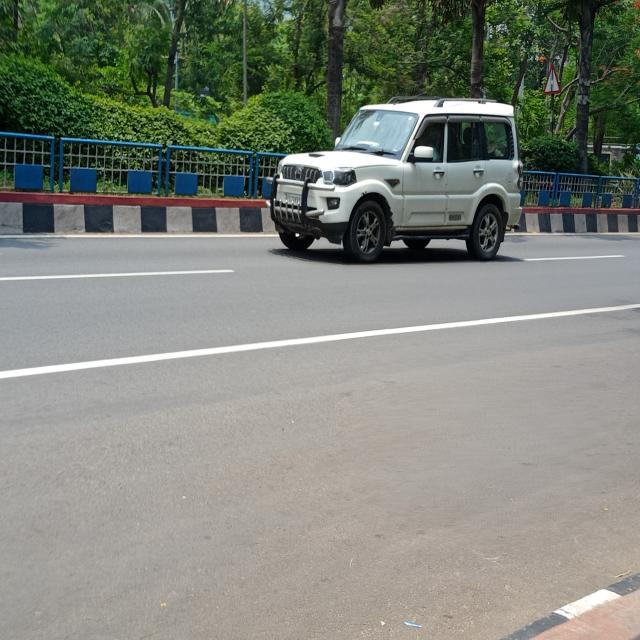car: (267, 85, 544, 266)
